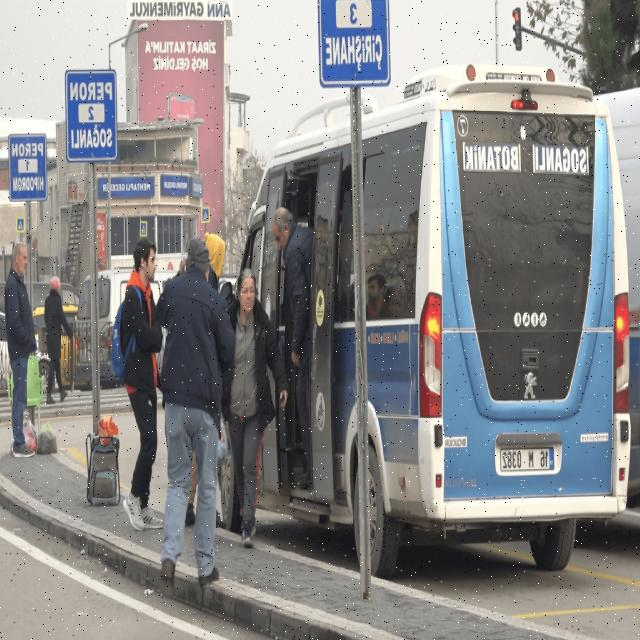bus: (242, 120, 357, 527), (596, 88, 639, 504)
